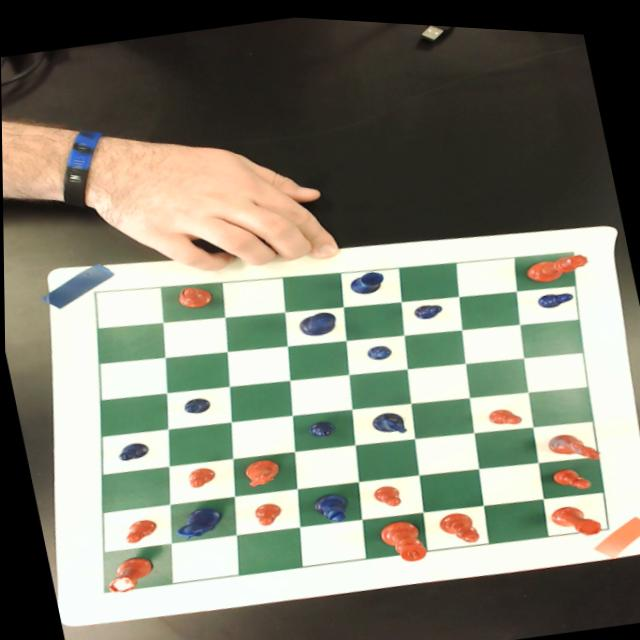B: (309, 485, 352, 522)
K: (295, 304, 338, 335)
N: (170, 501, 226, 541), (369, 403, 407, 433)
P: (533, 282, 574, 304), (115, 437, 151, 461), (180, 392, 212, 414), (306, 413, 336, 436), (411, 295, 443, 315), (365, 337, 392, 358)
R: (347, 263, 386, 292)
b: (437, 502, 480, 542), (175, 279, 214, 308)
k: (376, 509, 427, 562)
n: (542, 418, 602, 463), (240, 451, 282, 485)
p: (550, 455, 592, 487), (119, 514, 160, 544), (252, 496, 284, 524), (184, 461, 218, 487), (486, 398, 522, 422), (371, 478, 402, 504)
q: (523, 242, 590, 281)
r: (99, 550, 157, 594), (548, 492, 602, 535)
